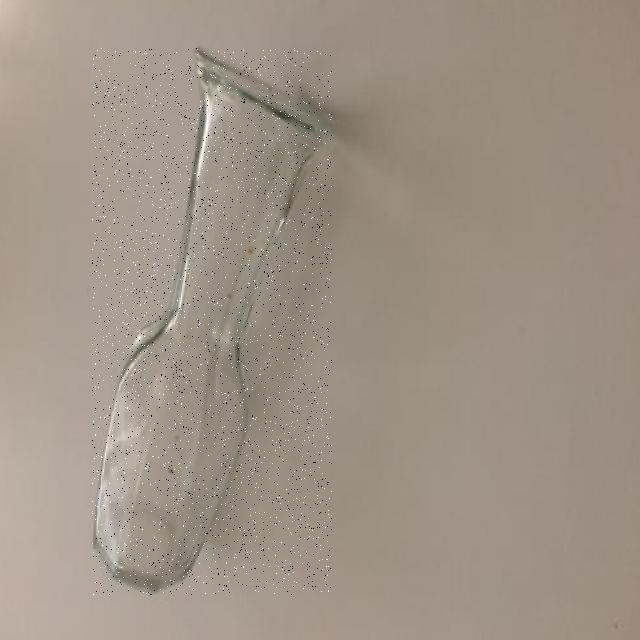glass: (93, 48, 332, 595)
